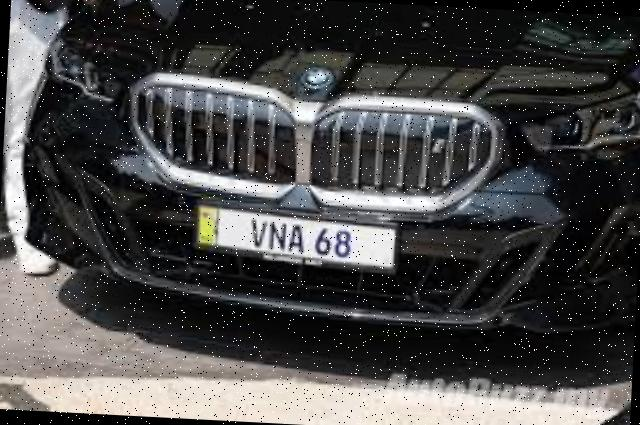License_Plate: (189, 201, 403, 281)
car: (16, 1, 640, 360)
